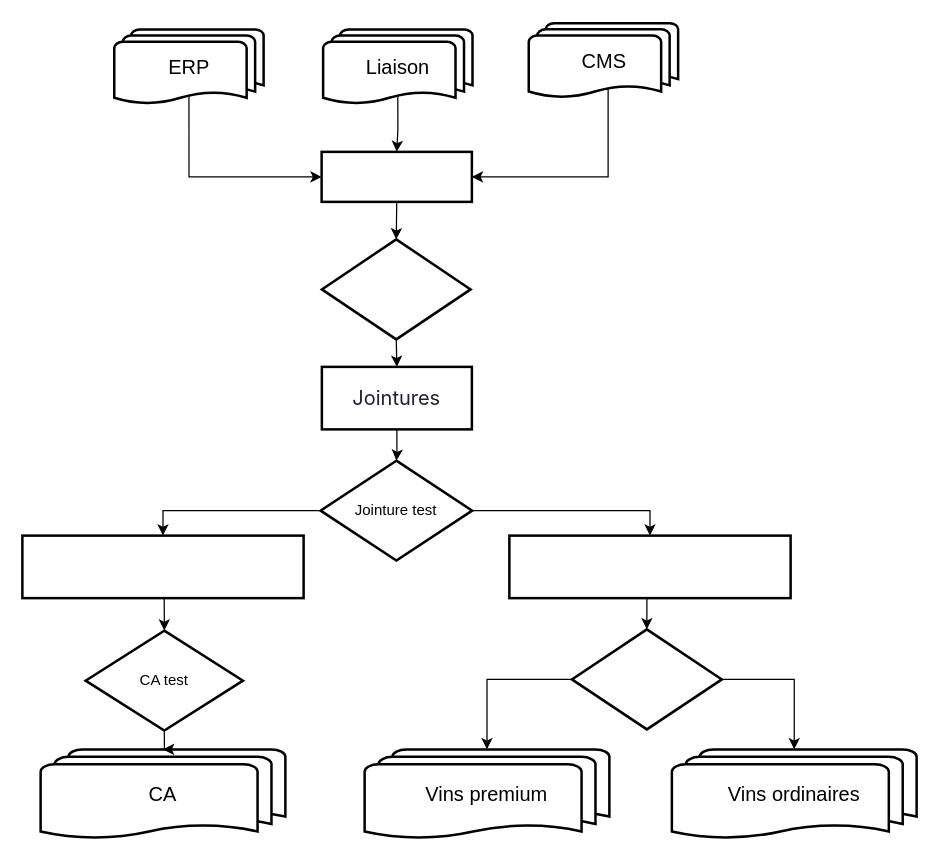
Some shapes in this 940 by 861 pixel diagram are drawn without their labels. The shapes that lost their labels are listed below. From the top down, each one's centre as x and y in pixels, then its label:
(x=396, y=176): Nettoyage
(x=395, y=289): clean test
(x=162, y=566): Agrégations
(x=649, y=566): Z-score
(x=646, y=679): Volumétrie test
